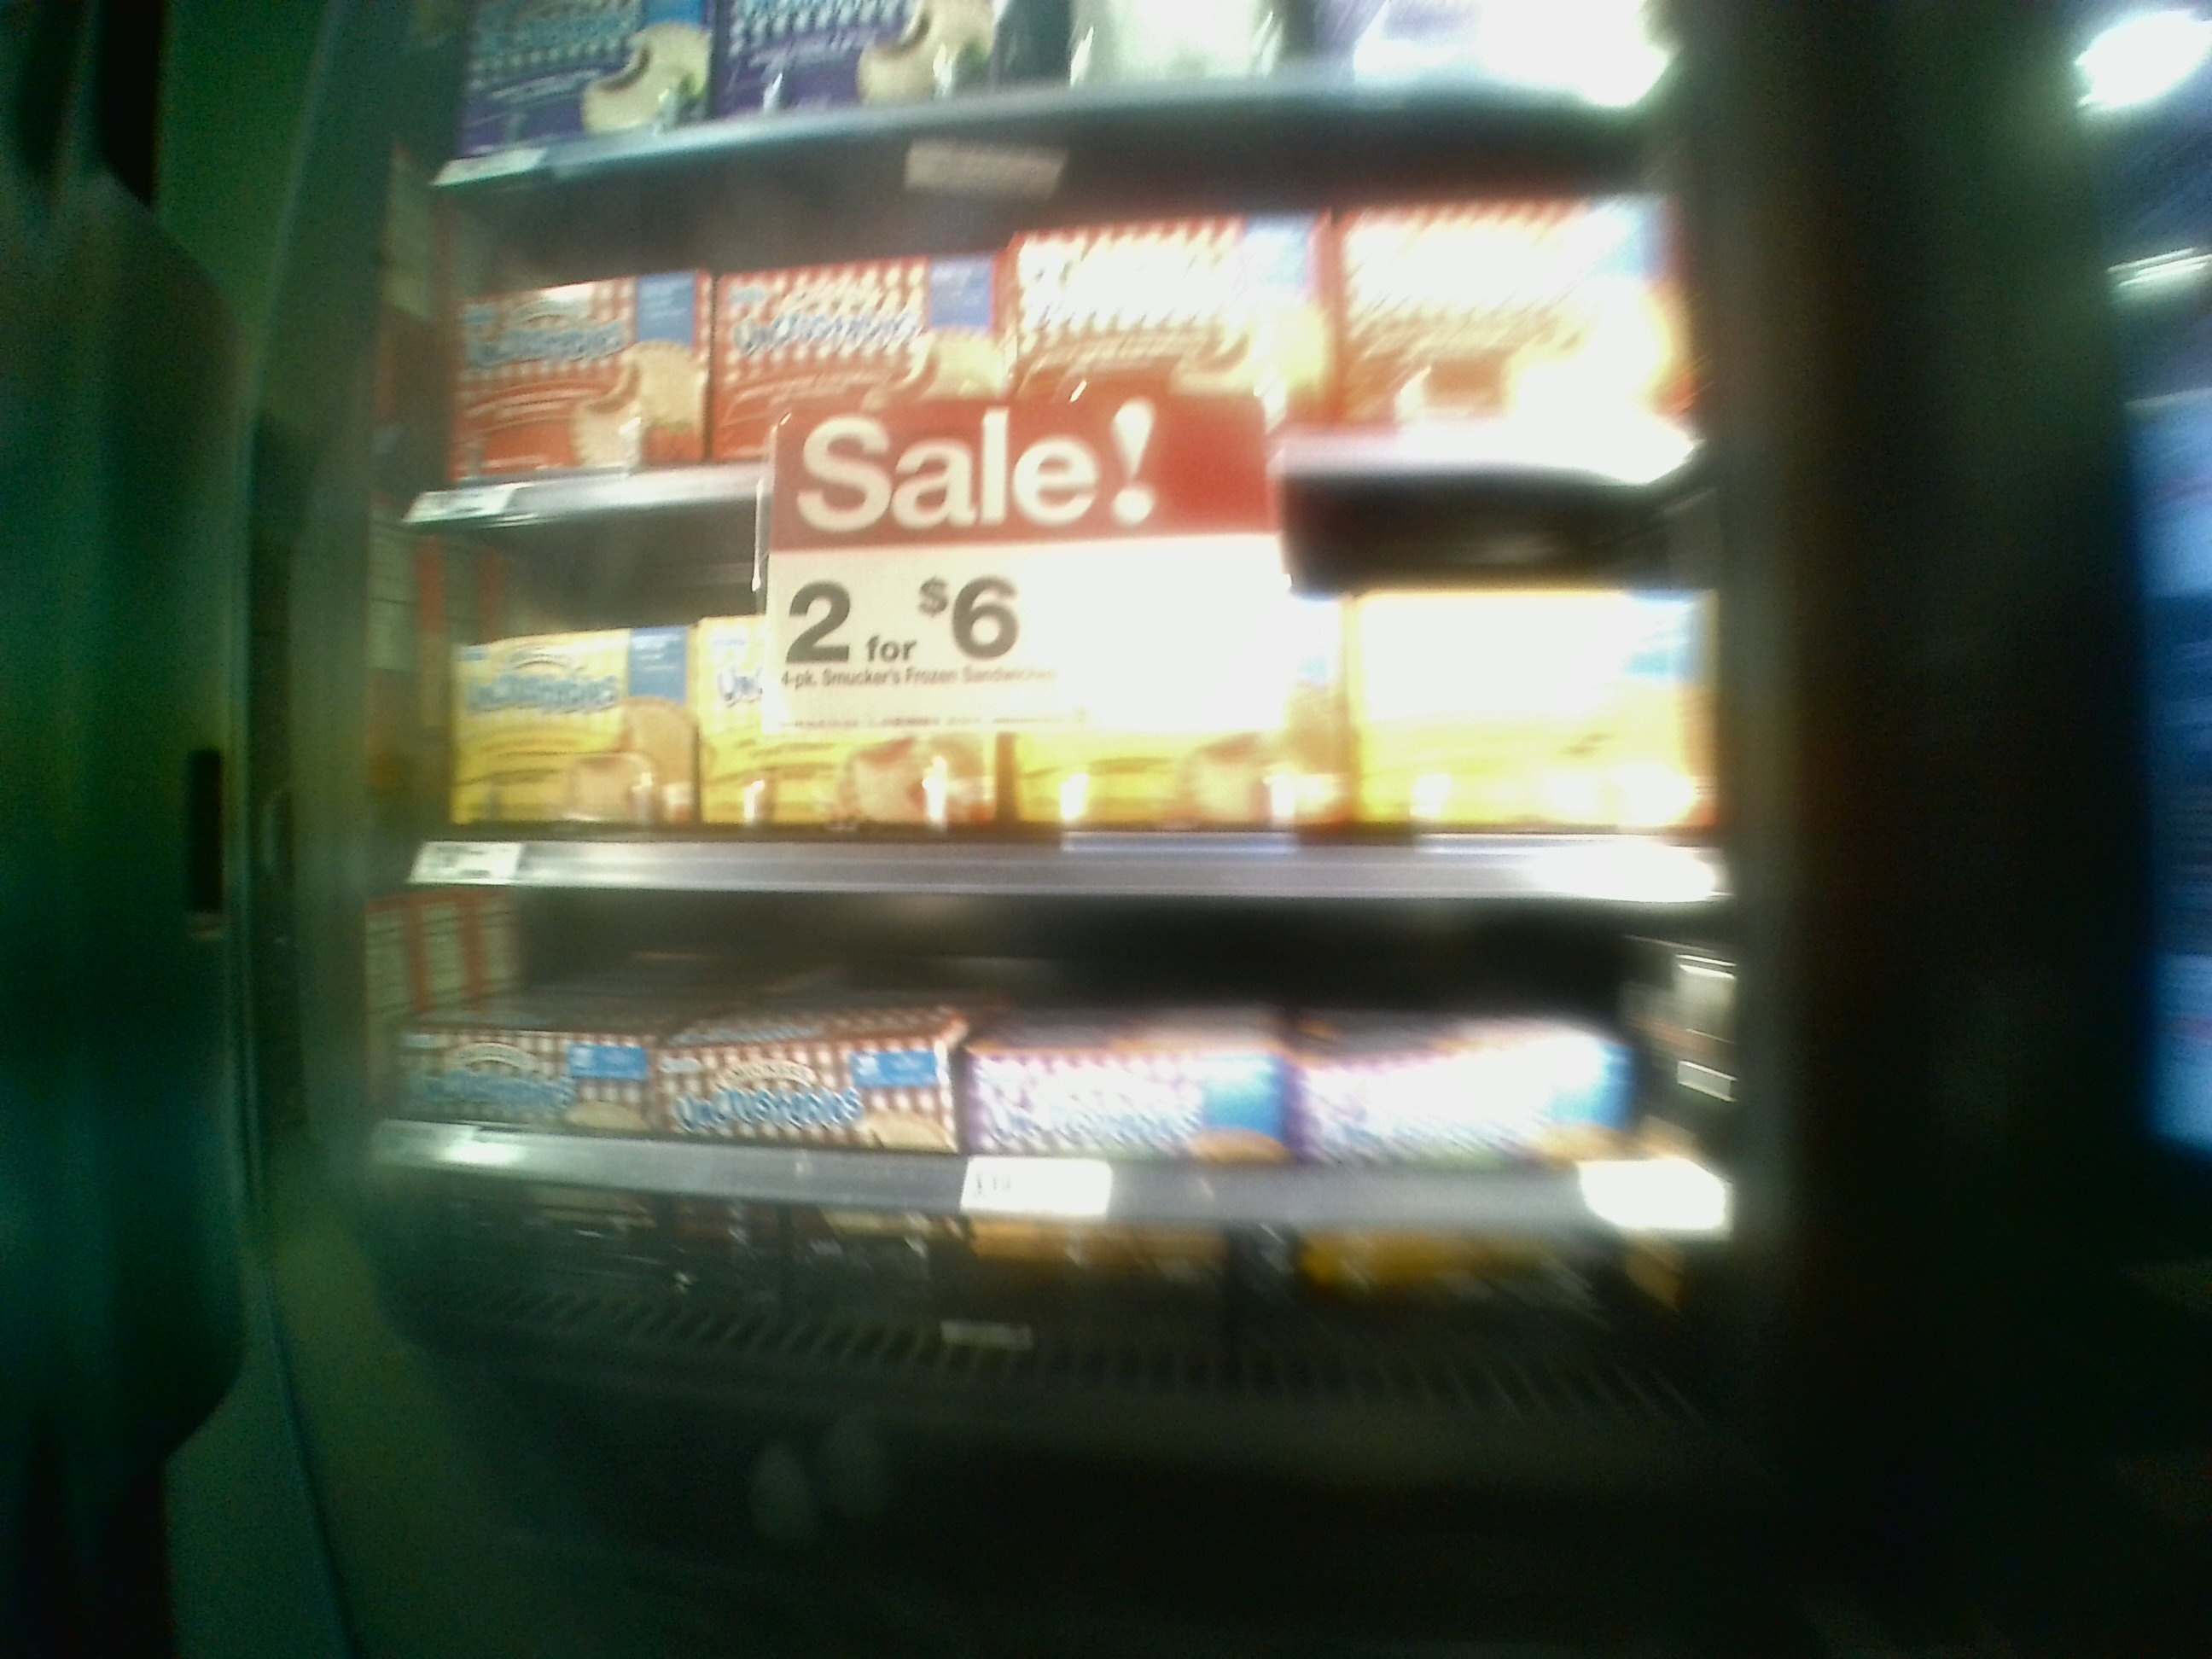shelf: (413, 845, 1724, 1391), (397, 491, 1712, 892), (423, 150, 1672, 450)
